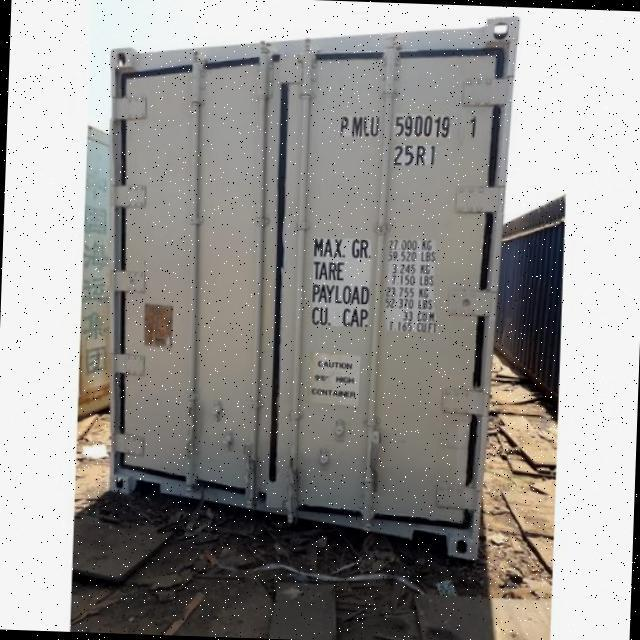le-tle-t-tletters: (326, 101, 488, 145)
